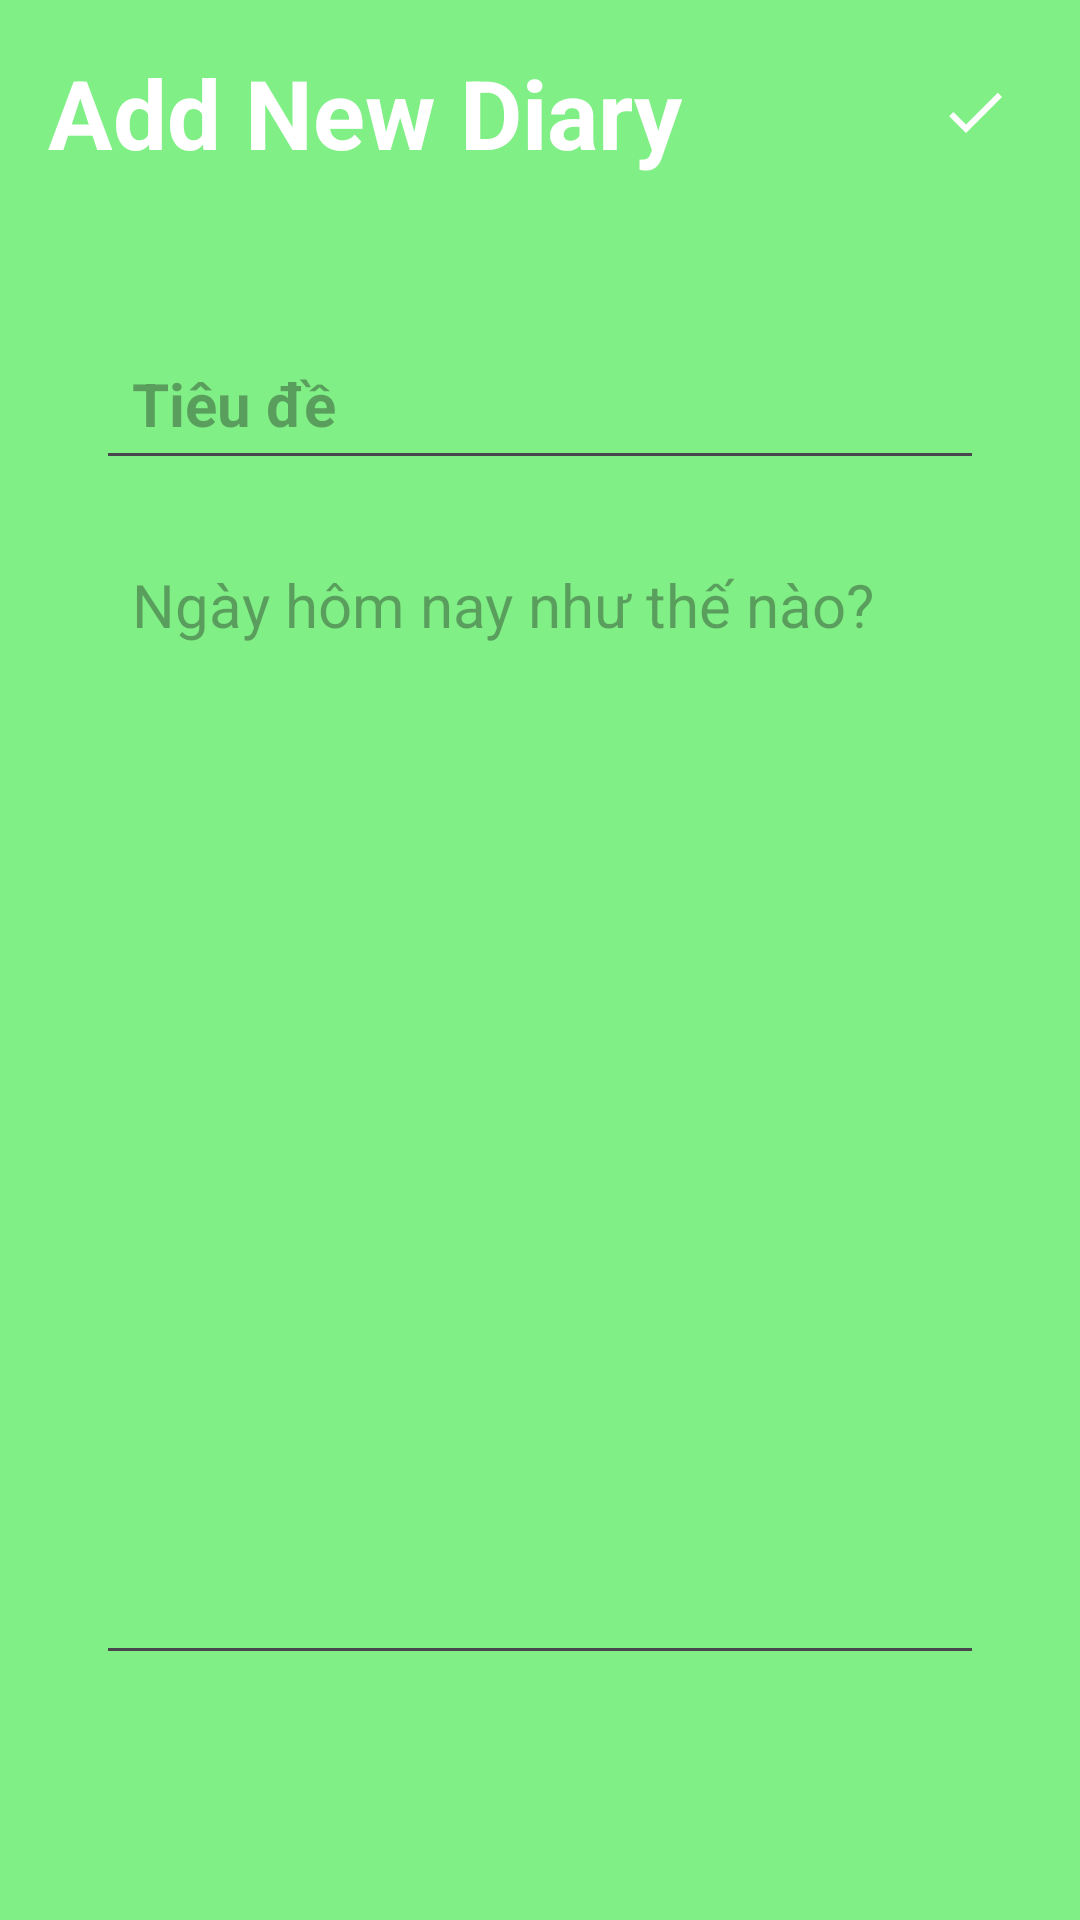

Point at icon controls on the screen. Image size 1080×1920, points as [x,y].
done: [975,113]
